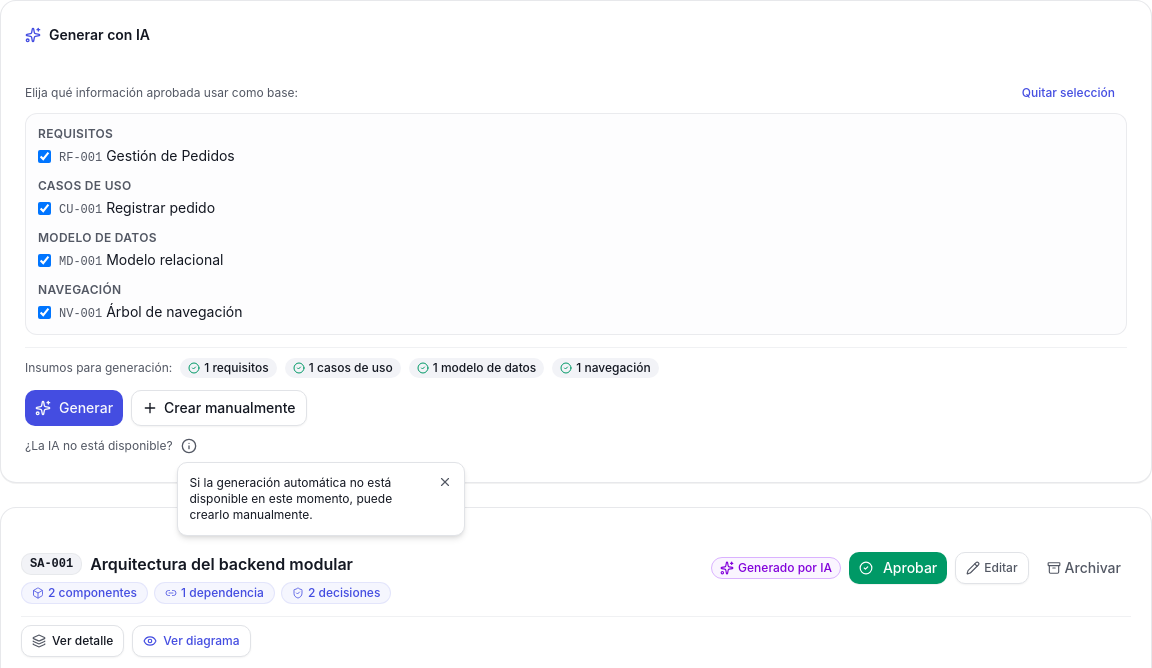
Test case: SoftwareArchitecturePage › filters components by search query in real time
The image size is (1152, 668).
Click the button "Ver detalle". click: point(73, 641)
box: [21,625,124,657]
(page scrolled)
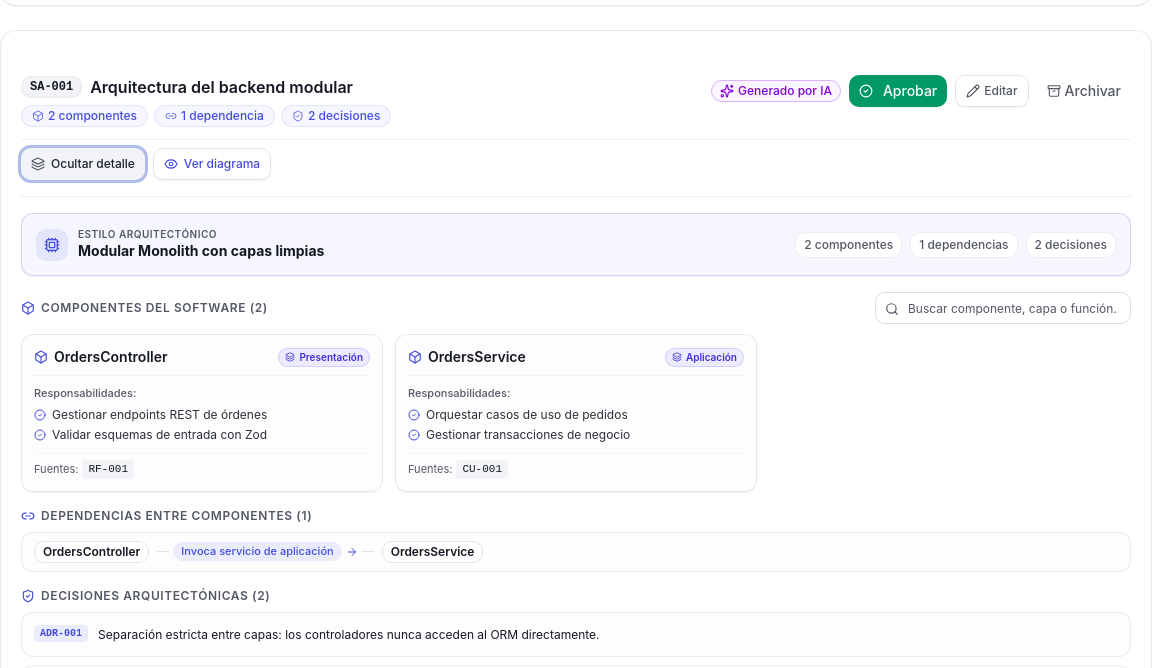
Type "Controller" into the search field with placeholder "Buscar componente, capa o función…". click: point(1003, 308)
box: [875,292,1131,324]
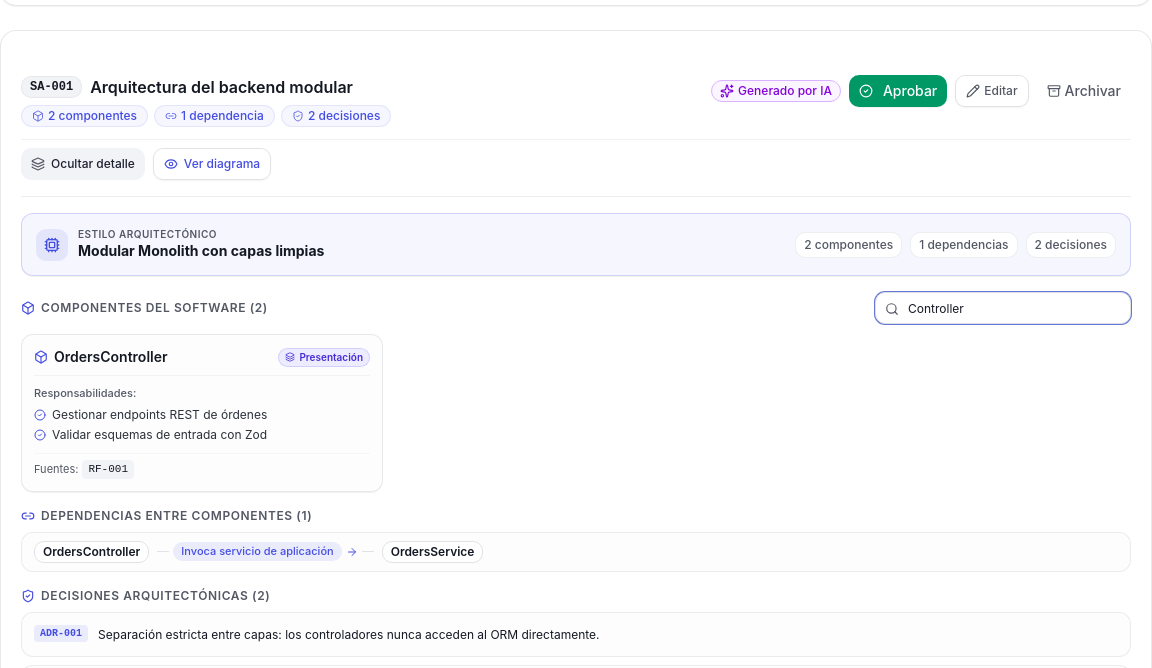
Expected: the text "OrdersController" next to "Presentación" is shown, [54,348,168,365]
Expected: the text "Orquestar casos de uso de pedidos" is gone
# Clear search
Clear the search field with placeholder "Buscar componente, capa o función…". click: point(1003, 308)
box: [875,292,1131,324]
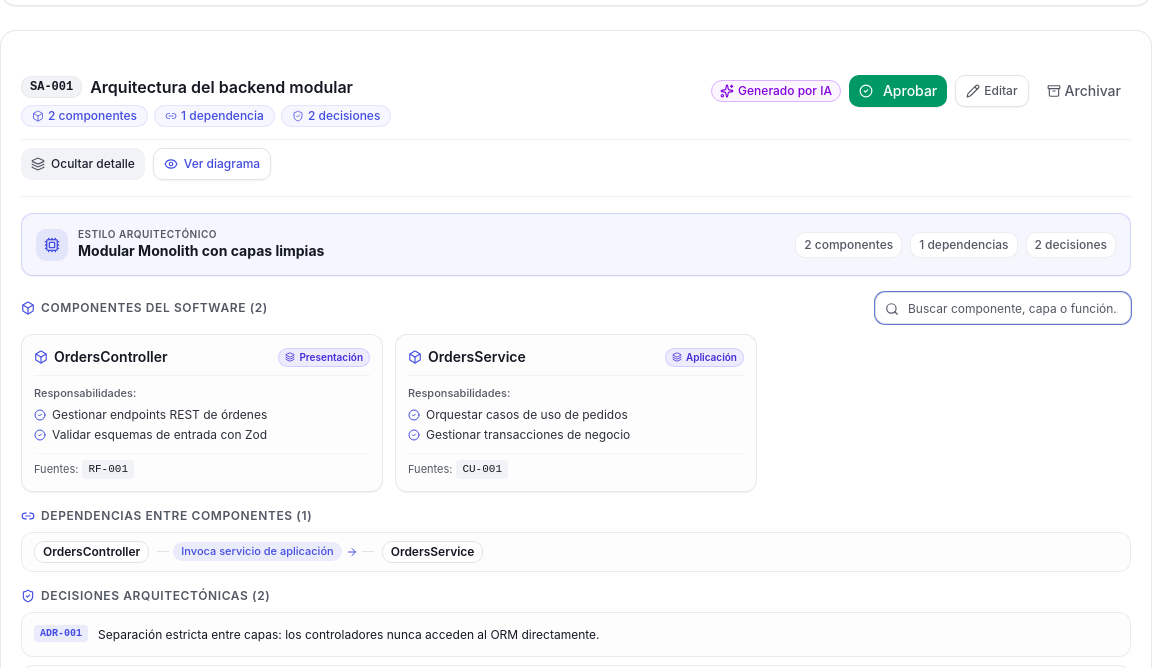
Expected: the text "Orquestar casos de uso de pedidos" is shown, [426,407,628,423]
# Nonexistent filter
Type "inexistente" into the search field with placeholder "Buscar componente, capa o función…". click: point(1003, 308)
box: [875,292,1131,324]
(page scrolled)
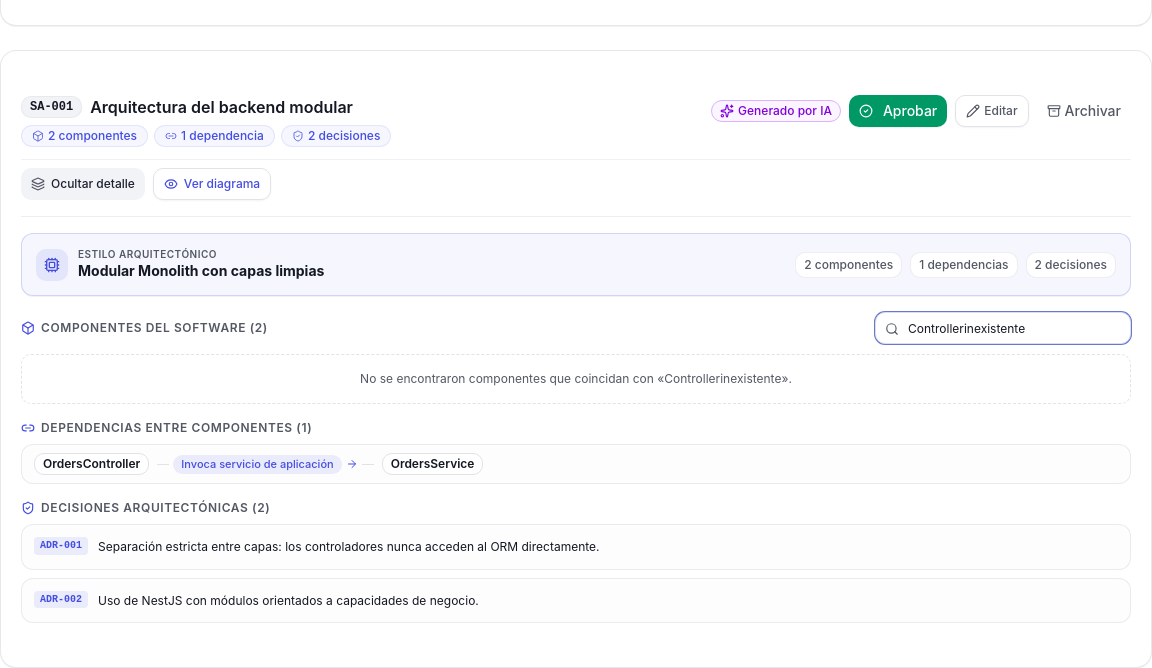
Expected: the text "No se encontraron componentes que coincidan" is shown, [360,371,664,386]
